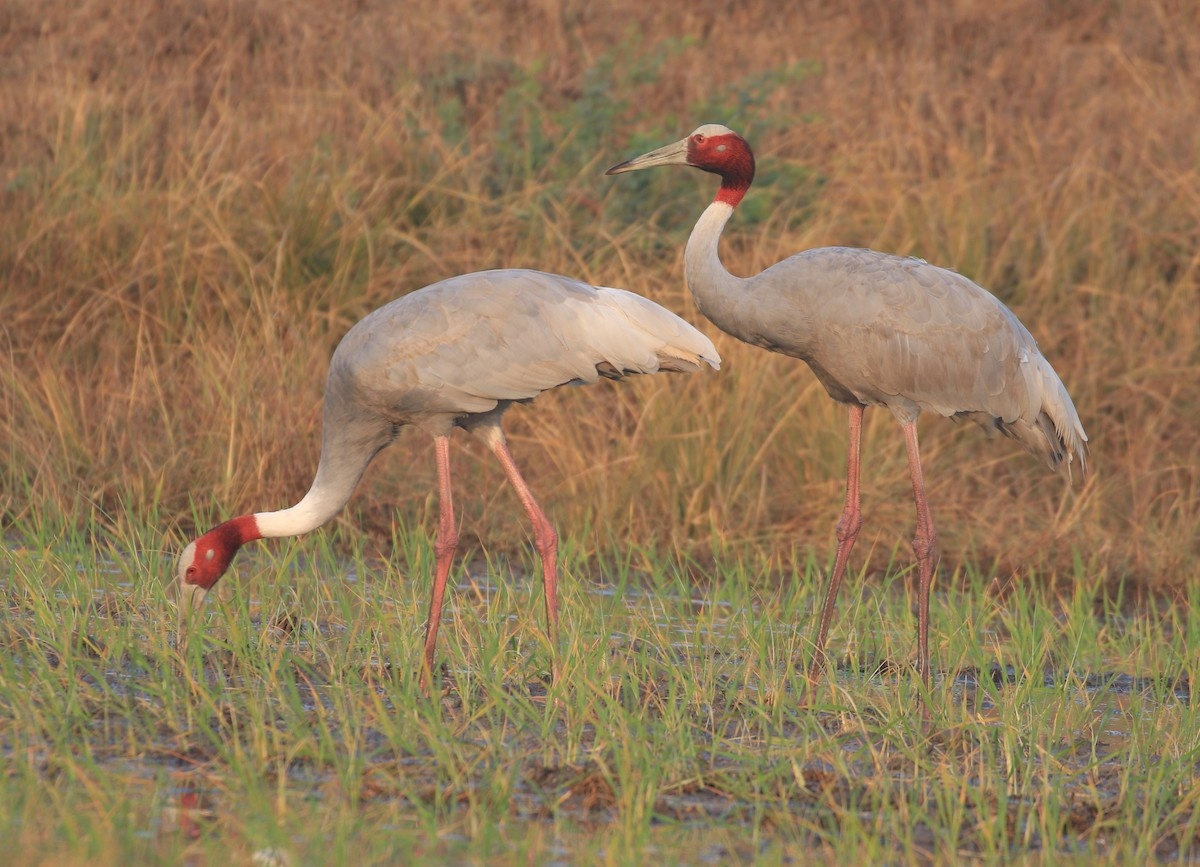crane: (606, 118, 1102, 693), (164, 256, 722, 678)
